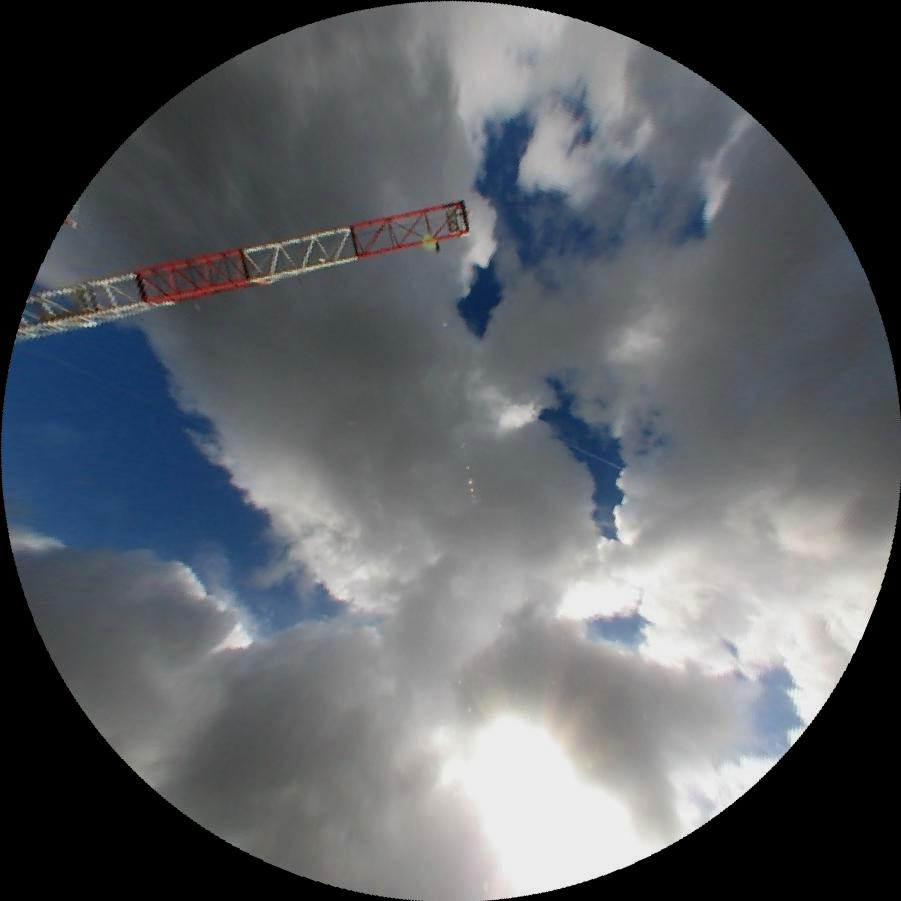contrail young: (554, 436, 623, 470)
